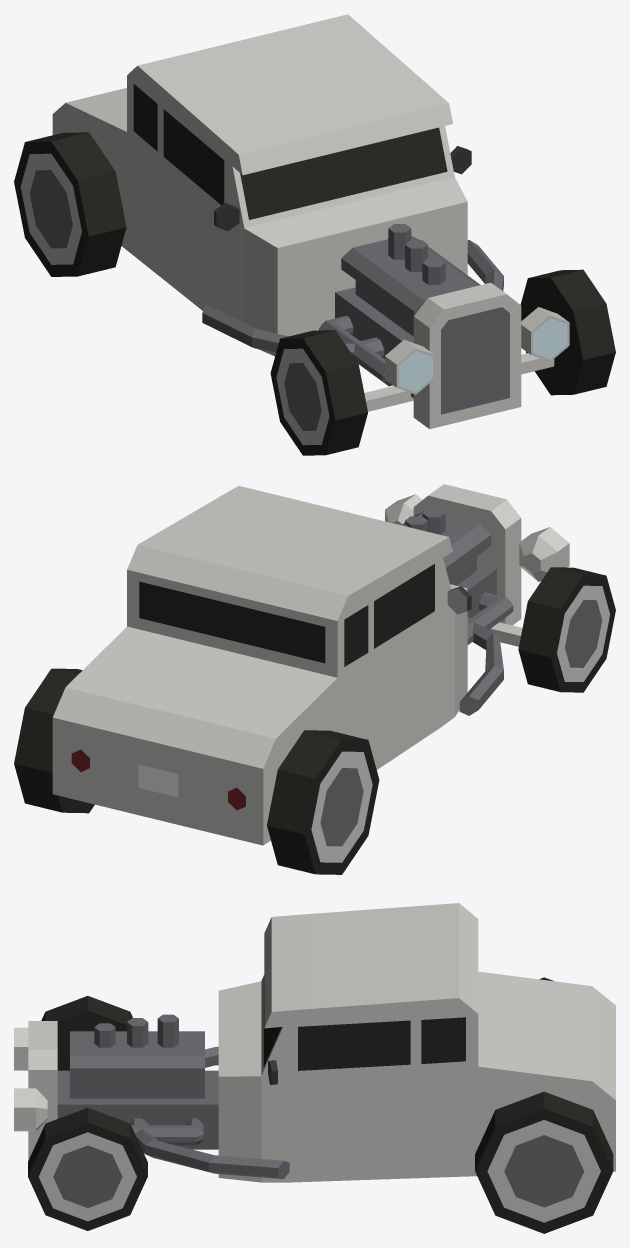
The model's file is Veh_HotRod_White.glb.
3 renders of one model, top to bottom at view 1: azimuth 30°, elevation 25°; view 2: azimuth 150°, elevation 25°; view 3: azimuth 270°, elevation 25°, orthographic. The views are drawn at different scales.
Parts seen in each view (by area): view 1: HotRod_White, Wheel_RR, Wheel_FR, Wheel_FL; view 2: HotRod_White, Wheel_RR, Wheel_FR, Wheel_RL; view 3: HotRod_White, Wheel_RL, Wheel_FL, Wheel_FR.
Boxes of the visible parts, box(x1,y1,x2,y2) form: HotRod_White: box(52, 14, 569, 429); Wheel_RR: box(14, 132, 126, 276); Wheel_FR: box(270, 330, 367, 455); Wheel_FL: box(520, 269, 615, 395); HotRod_White: box(52, 484, 569, 845); Wheel_RR: box(267, 730, 379, 874); Wheel_FR: box(518, 567, 615, 692); Wheel_RL: box(14, 668, 94, 813); HotRod_White: box(14, 903, 615, 1182); Wheel_RL: box(475, 1091, 613, 1233); Wheel_FL: box(28, 1107, 147, 1230); Wheel_FR: box(41, 996, 132, 1070).
Size of the model in its own units: 1.21 by 0.9391 by 2.35.
Materials: 1 (1 with a texture image).
